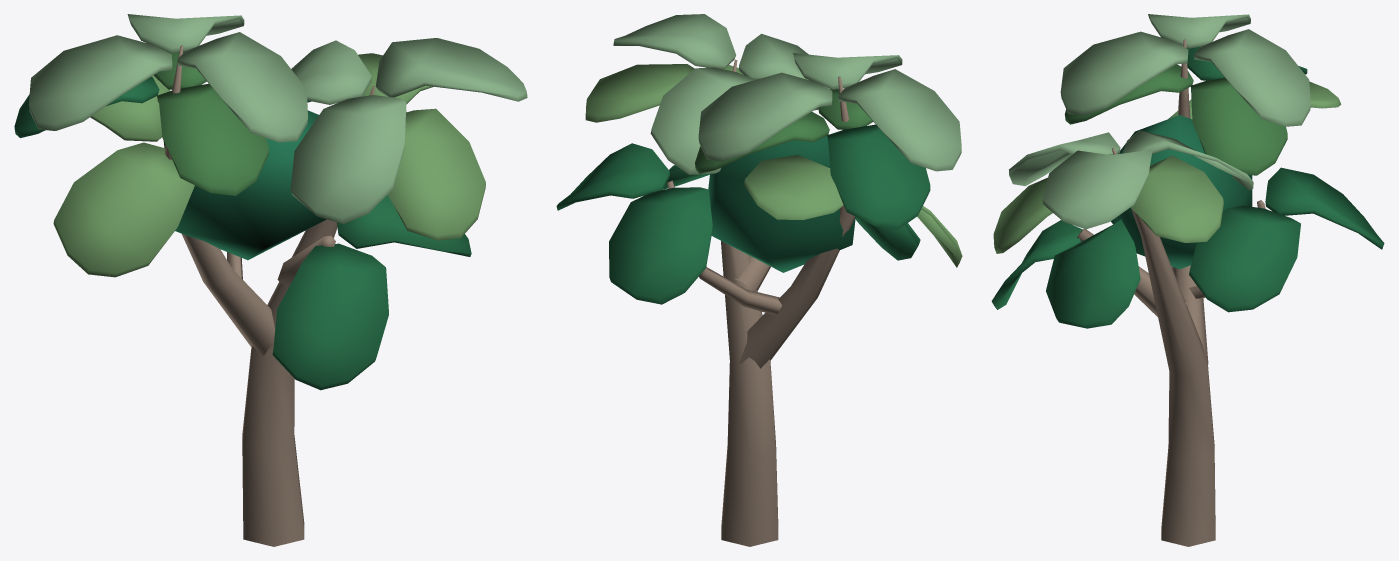
The model's file is maple1-lod1.glb.
3 renders of one model, left to right at view 1: azimuth 30°, elevation 25°; view 2: azimuth 150°, elevation 25°; view 3: azimuth 270°, elevation 25°, orthographic. The views are drawn at different scales.
Parts seen in each view (by area): view 1: maple1-lod0; view 2: maple1-lod0; view 3: maple1-lod0.
Boxes of the visible parts, x1,y1,x2,y2 form: maple1-lod0: (14,14,527,546); maple1-lod0: (556,14,962,546); maple1-lod0: (991,14,1384,546).
Size of the model in its own units: 9.78 by 11.46 by 8.93.
